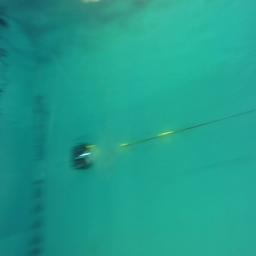Full: (70, 143, 95, 169)
